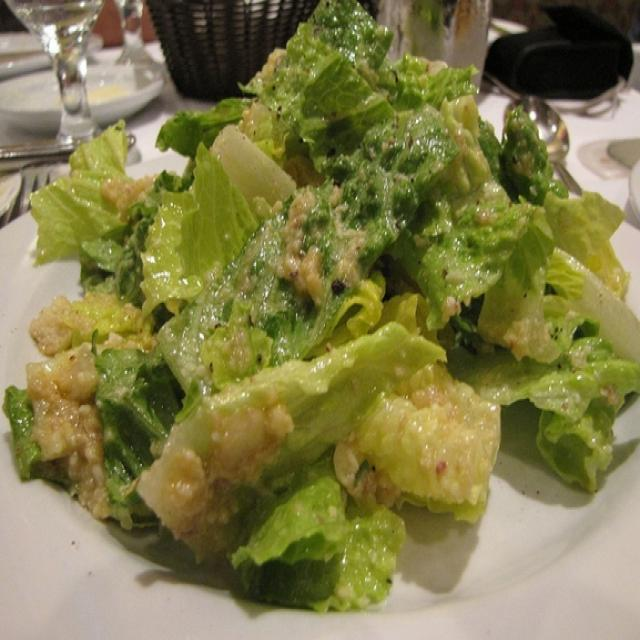蔬菜料理: (18, 18, 626, 618)
